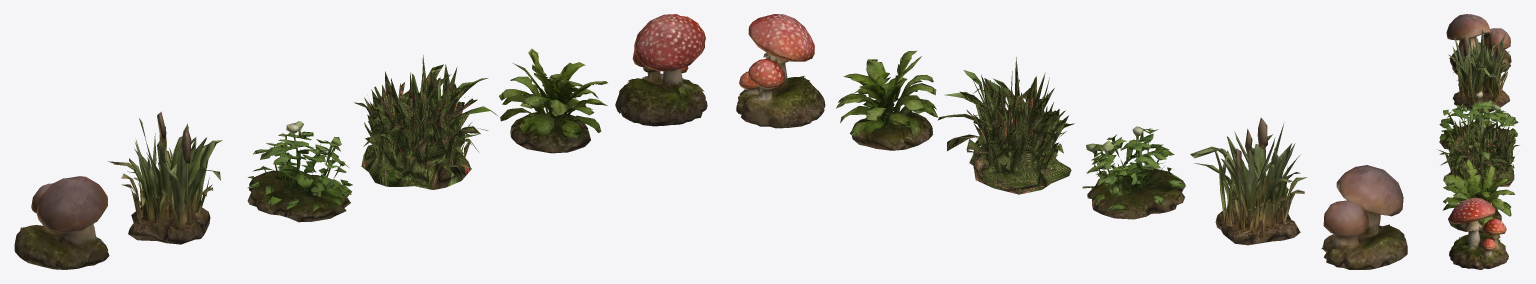
File: ground_cover.glb
The picture shows the model from 3 angles, left to right: view 1: azimuth 30°, elevation 25°; view 2: azimuth 150°, elevation 25°; view 3: azimuth 270°, elevation 25°; orthographic projection. The views are drawn at different scales.
Parts seen in each view (by area): view 1: grass_tall, reed, mushroom_red, mushroom_brown, clover, fern; view 2: grass_tall, reed, mushroom_red, mushroom_brown, clover, fern; view 3: grass_tall, reed, mushroom_red, fern, clover, mushroom_brown.
Part boxes in pixels (left/top/right/bottom): grass_tall: left=354, top=55, right=497, bottom=189; reed: left=108, top=111, right=222, bottom=244; mushroom_red: left=615, top=14, right=707, bottom=126; mushroom_brown: left=14, top=176, right=109, bottom=269; clover: left=247, top=121, right=352, bottom=222; fern: left=499, top=48, right=607, bottom=153; grass_tall: left=937, top=56, right=1074, bottom=194; reed: left=1190, top=118, right=1306, bottom=245; mushroom_red: left=736, top=14, right=825, bottom=128; mushroom_brown: left=1321, top=165, right=1407, bottom=269; clover: left=1082, top=126, right=1185, bottom=219; fern: left=836, top=50, right=938, bottom=150; grass_tall: left=1437, top=113, right=1519, bottom=188; reed: left=1448, top=29, right=1509, bottom=113; mushroom_red: left=1449, top=197, right=1508, bottom=269; fern: left=1442, top=159, right=1515, bottom=233; clover: left=1439, top=91, right=1518, bottom=149; mushroom_brown: left=1446, top=14, right=1511, bottom=74.
Size of the model in its own units: 2.02 by 0.31 by 0.3341.
1 material, 1 textured.
